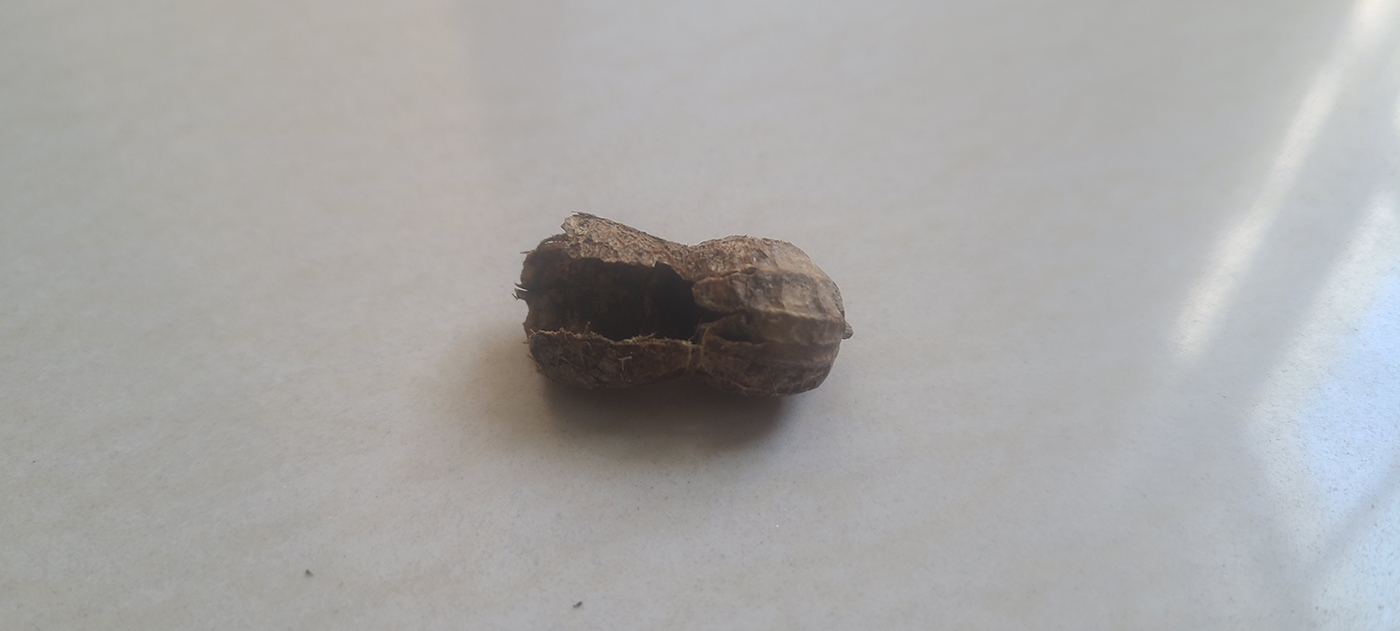l: (511, 210, 849, 394)
